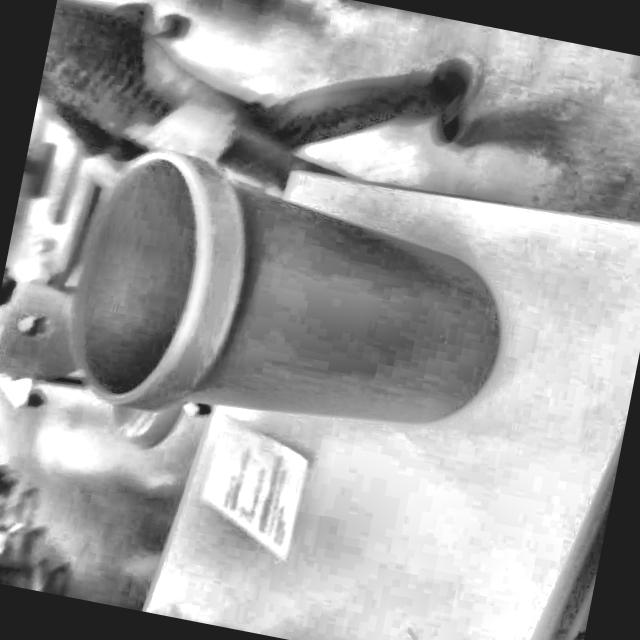Dustbin: (0, 86, 575, 535)
